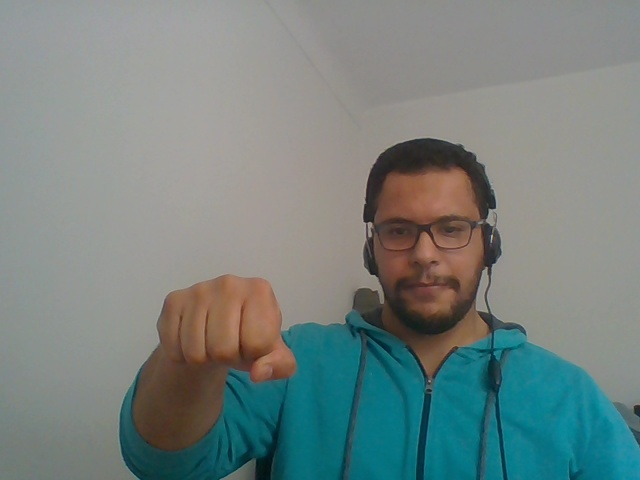yes: (149, 252, 304, 398)
